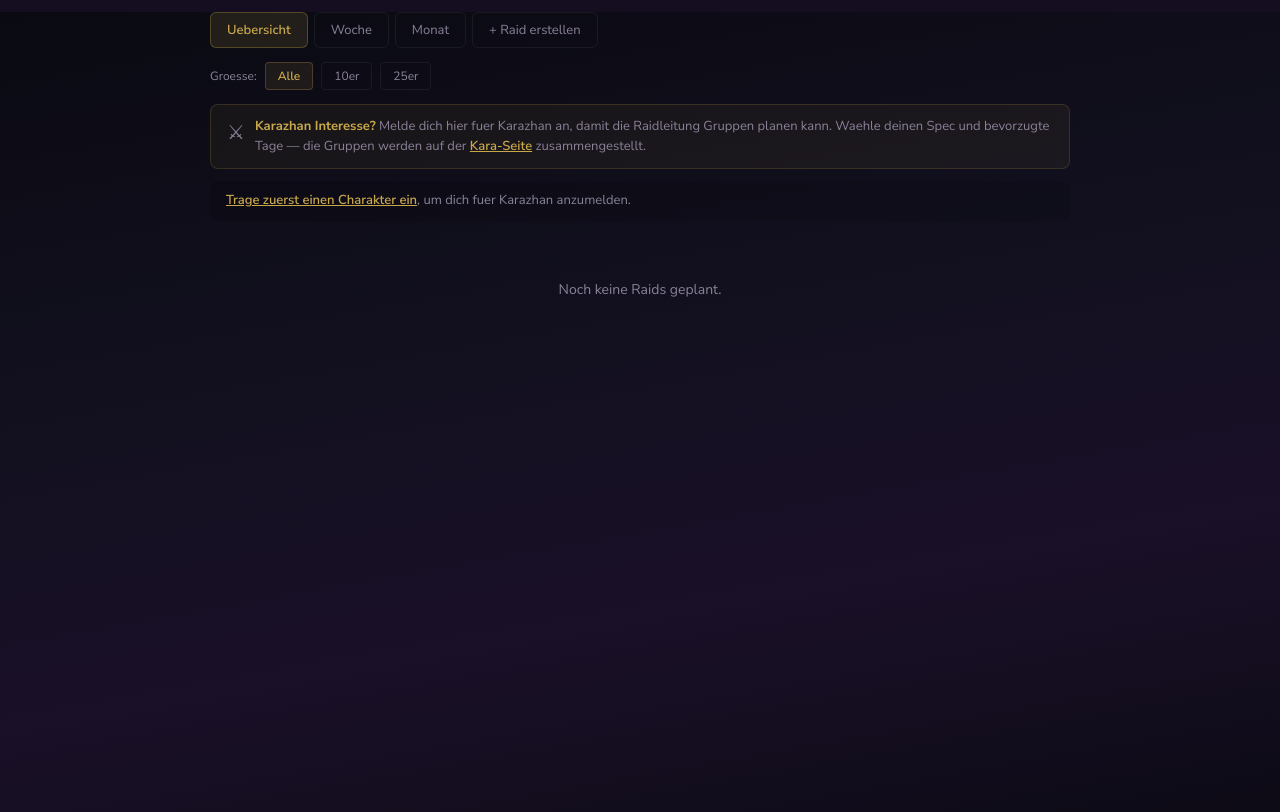
RaidsView › switches to create form
The image size is (1280, 812).
Click the button with class "rt-btn" showing "+ Raid erstellen" at (535,30), box [472,12,598,48]
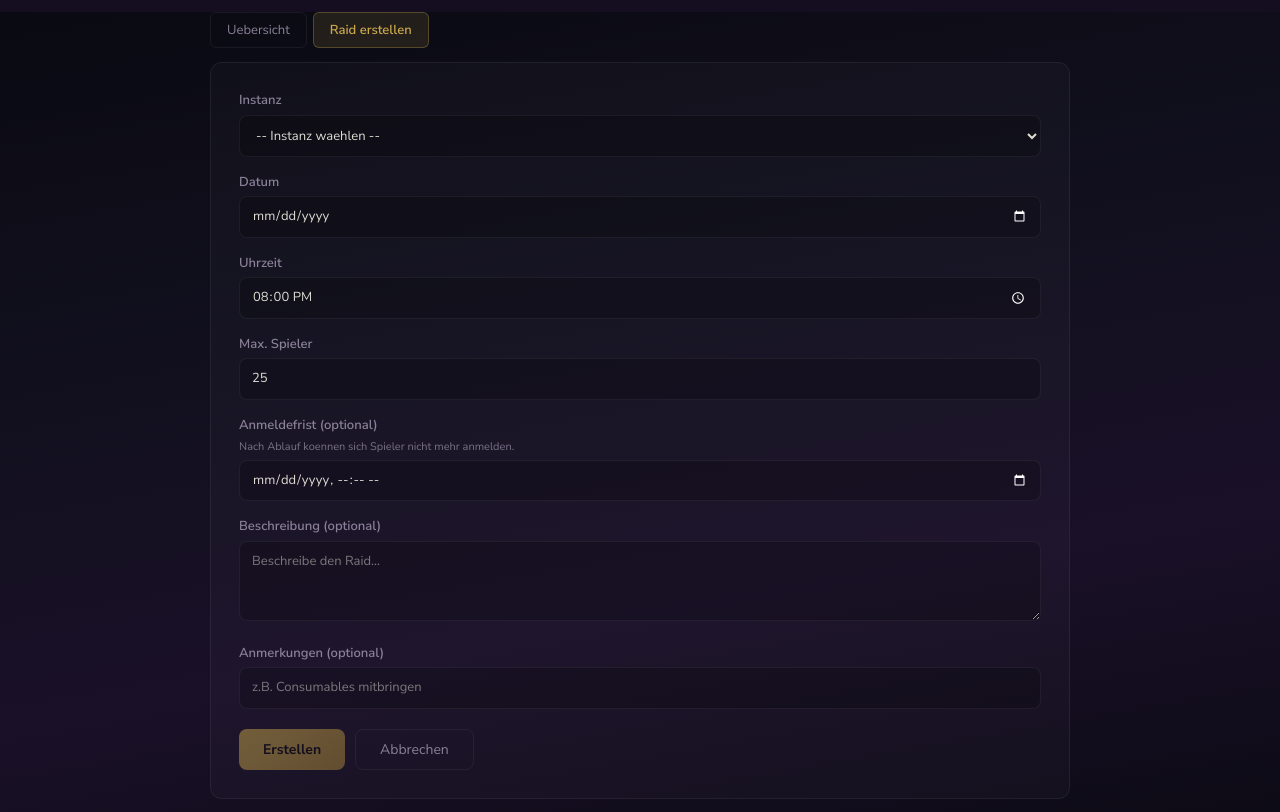
Expected: the text "erstellen" is shown, [313,12,429,48]
Expected: the text "Instanz" is shown, [239,91,282,109]
Expected: the text "Datum" is shown, [239,172,279,190]
